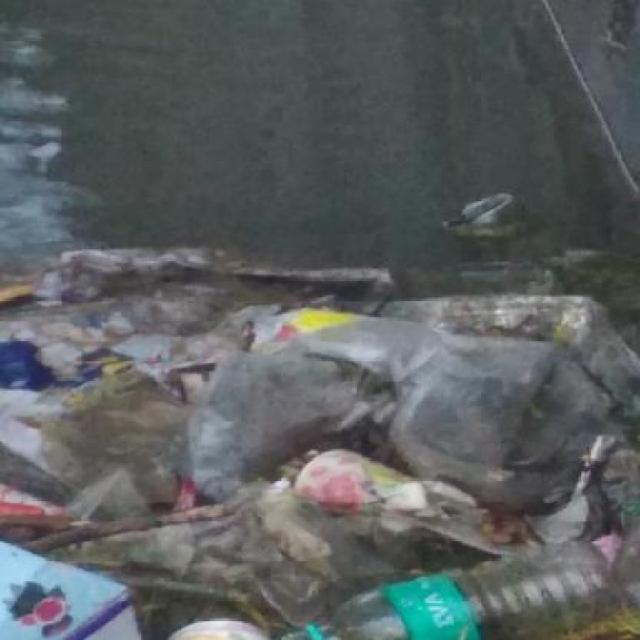garbage: (20, 248, 612, 636)
